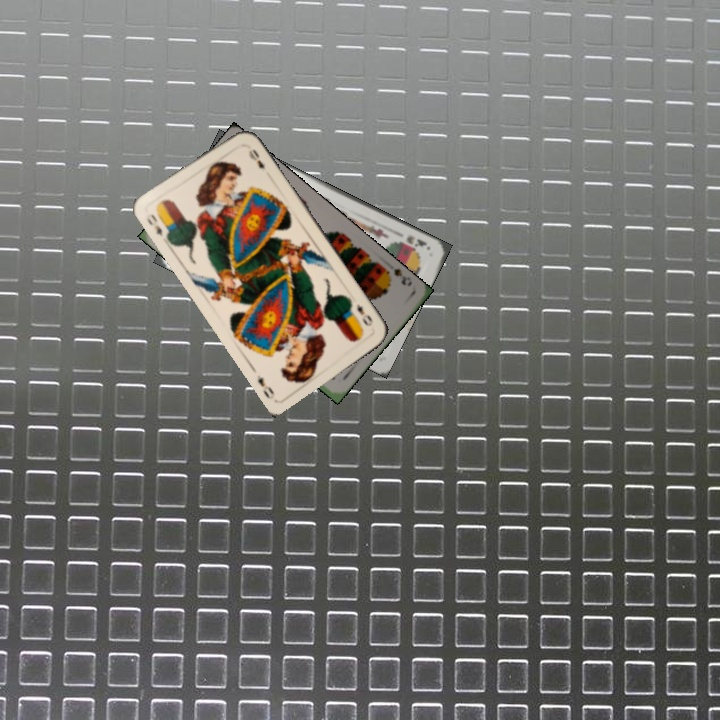EO: (352, 300, 376, 329), (142, 210, 165, 239)
S9: (378, 263, 415, 289)
SK: (402, 231, 430, 249)
